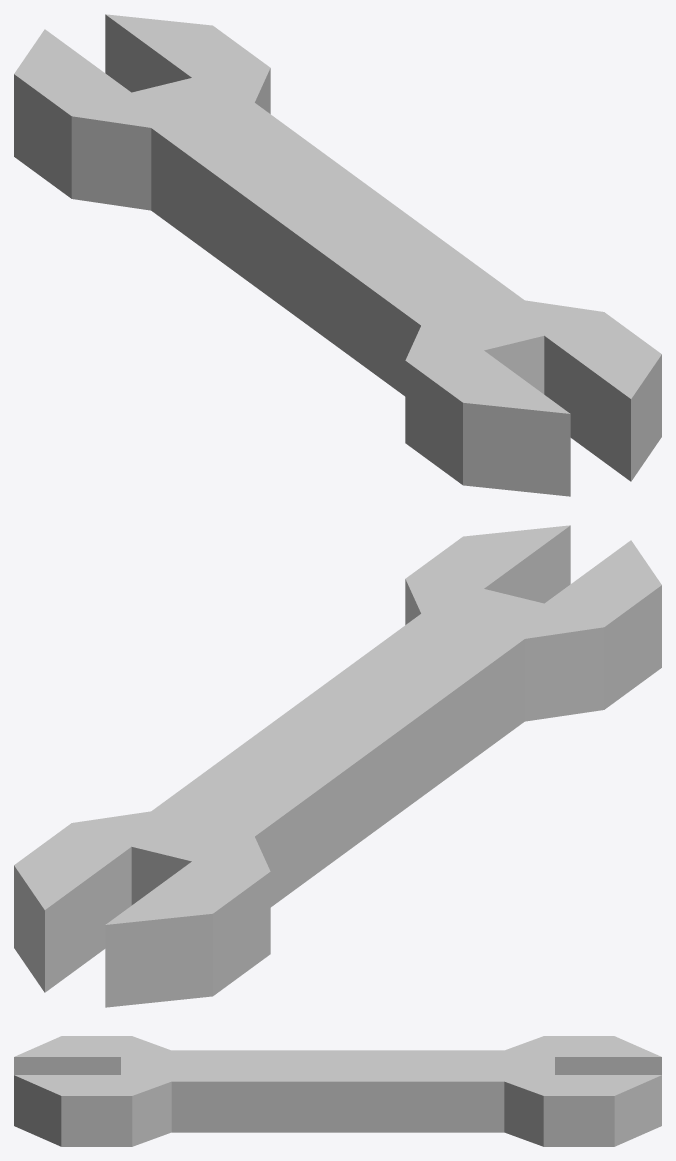
File: Items_Spanner_01.fbx
The picture shows the model from 3 angles, top to bottom: view 1: azimuth 30°, elevation 25°; view 2: azimuth 150°, elevation 25°; view 3: azimuth 270°, elevation 25°; orthographic projection. The views are drawn at different scales.
Parts seen in each view (by area): view 1: Items_Spanner_01; view 2: Items_Spanner_01; view 3: Items_Spanner_01.
Boxes of the visible parts, bbox=[...] form: Items_Spanner_01: bbox=[14, 14, 661, 496]; Items_Spanner_01: bbox=[14, 525, 661, 1007]; Items_Spanner_01: bbox=[14, 1036, 661, 1146].
Bounding box in the file's own units: 17.35 × 6.89 × 79.46.
